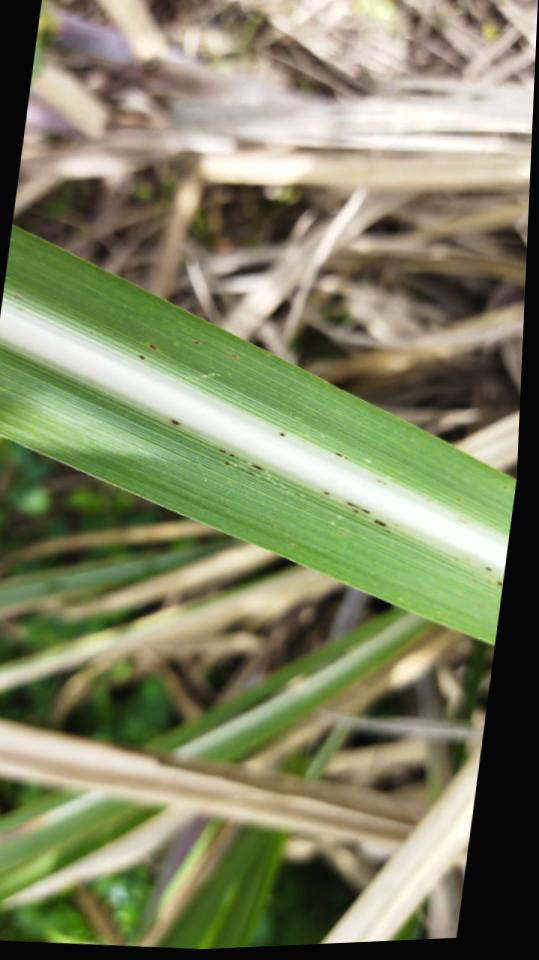Rust: (342, 499, 372, 515), (216, 447, 235, 459), (248, 461, 265, 472), (167, 418, 182, 429), (332, 450, 347, 461), (372, 517, 387, 528), (228, 350, 241, 361), (146, 341, 158, 352), (482, 564, 493, 574), (277, 430, 287, 440), (136, 353, 145, 363), (223, 459, 234, 466), (190, 338, 200, 345), (322, 489, 330, 496), (495, 579, 502, 587)
